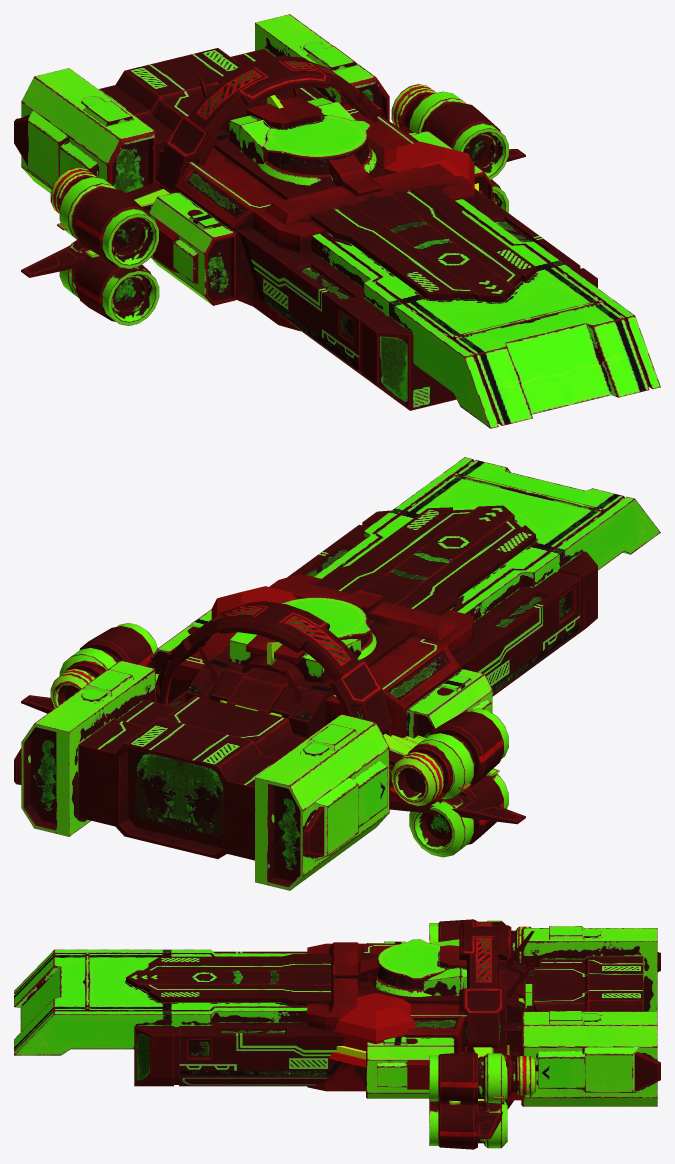
Rendered from units.glb.
3 renders of one model, top to bottom at view 1: azimuth 30°, elevation 25°; view 2: azimuth 150°, elevation 25°; view 3: azimuth 270°, elevation 25°, orthographic. The views are drawn at different scales.
Parts seen in each view (by area): view 1: Imperial, Spitfire, Zenith, hangar_roundGlass, Executioner, Omen, Challenger; view 2: Imperial, Spitfire, Zenith, Executioner, Omen, hangar_roundGlass, Challenger; view 3: Imperial, Spitfire, Zenith, hangar_roundGlass, Executioner, Challenger, Omen.
Boxes of the visible parts, left/top/right/bottom form: Imperial: left=14, top=14, right=660, bottom=428; Spitfire: left=59, top=91, right=508, bottom=325; Zenith: left=155, top=56, right=385, bottom=193; hangar_roundGlass: left=382, top=141, right=482, bottom=193; Executioner: left=50, top=84, right=445, bottom=213; Omen: left=21, top=95, right=525, bottom=277; Challenger: left=57, top=55, right=415, bottom=230; Imperial: left=14, top=457, right=660, bottom=890; Spitfire: left=59, top=623, right=508, bottom=857; Zenith: left=155, top=601, right=392, bottom=736; Executioner: left=50, top=651, right=452, bottom=808; Omen: left=21, top=642, right=525, bottom=824; hangar_roundGlass: left=211, top=586, right=297, bottom=618; Challenger: left=155, top=647, right=471, bottom=790; Imperial: left=14, top=926, right=660, bottom=1106; Spitfire: left=429, top=919, right=532, bottom=1149; Zenith: left=459, top=921, right=507, bottom=1052; hangar_roundGlass: left=328, top=992, right=415, bottom=1067; Executioner: left=478, top=925, right=535, bottom=1100; Challenger: left=473, top=931, right=534, bottom=1099; Omen: left=475, top=1099, right=513, bottom=1138.
Bounding box in the file's own units: 12.78 × 5.43 × 18.55.
Materials: 9 (8 with a texture image).
